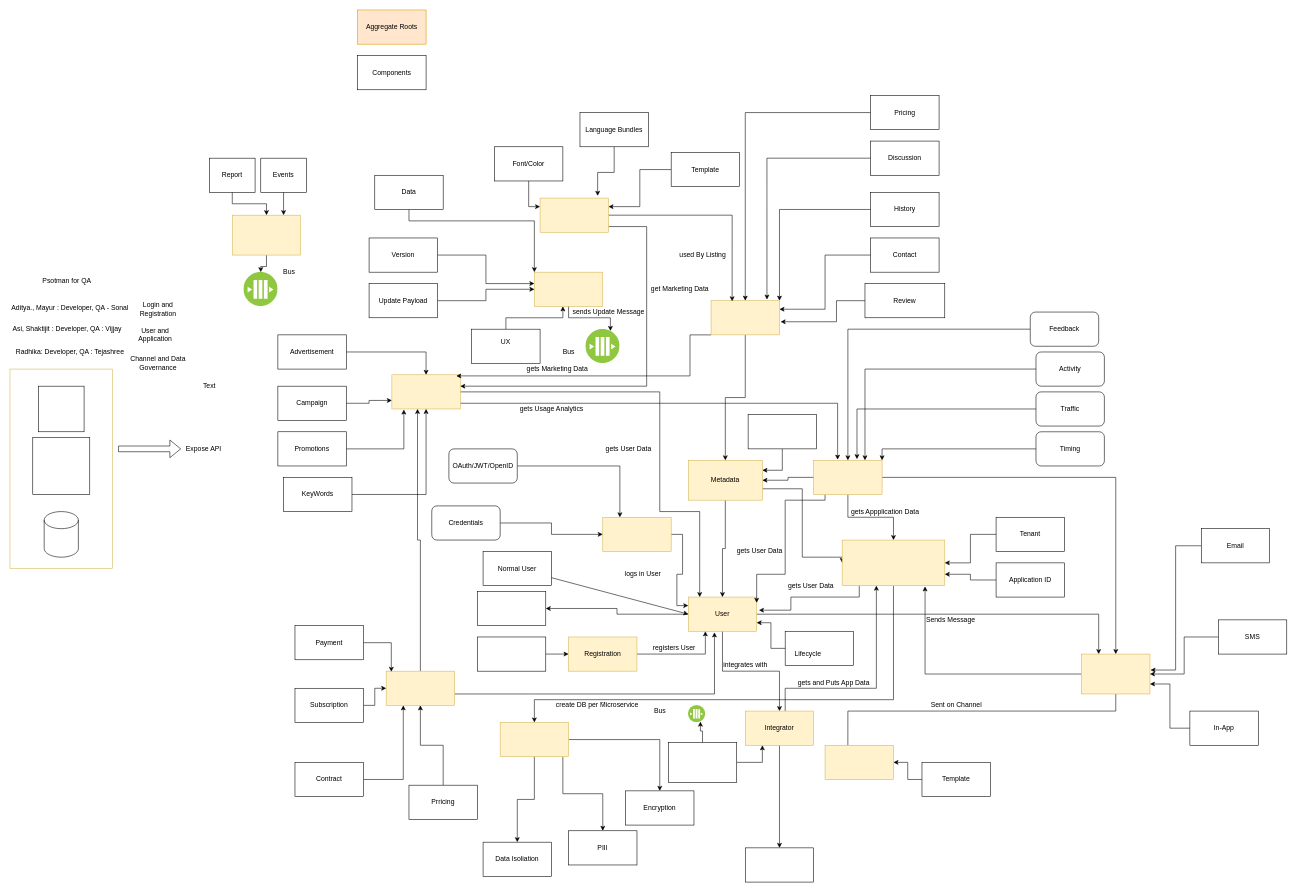
Image size: 1297x892. Some labels were removed from this diagram. The centre of each missing label's shape, as x and y in pixels:
"Admin User" belongs at (511,608).
"API Based" belongs at (779,864).
"Application" belongs at (893,563).
"Audit Log" belongs at (782,431).
"Billing" belongs at (420,688).
"Branding" belongs at (574,215).
"Bus Based" belongs at (702,762).
"Channel" belongs at (1115,674).
"Data Governance" belongs at (534,739).
"Flask" belongs at (61,409).
"Listing and Review" belongs at (745,317).
"Login" belongs at (636,534).
"Marketing" belongs at (425,391).
"Message" belongs at (859,762).
"MongoDB" belongs at (61,534).
"Python" belongs at (61,465).
"Reporting" belongs at (266,235).
"Update and Deployment" belongs at (568,289).
"Usage and Analytics" belongs at (847,477).
"User Data" belongs at (511,653).
